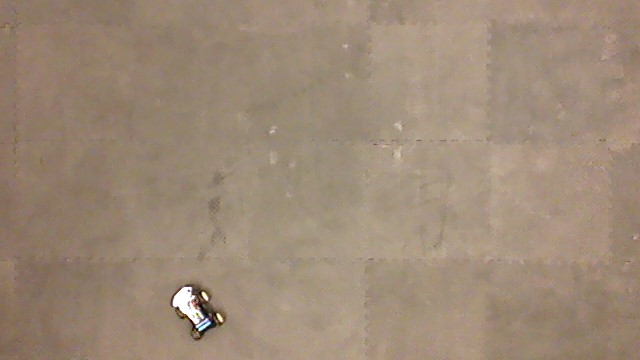Agent: (168, 282, 226, 342)
